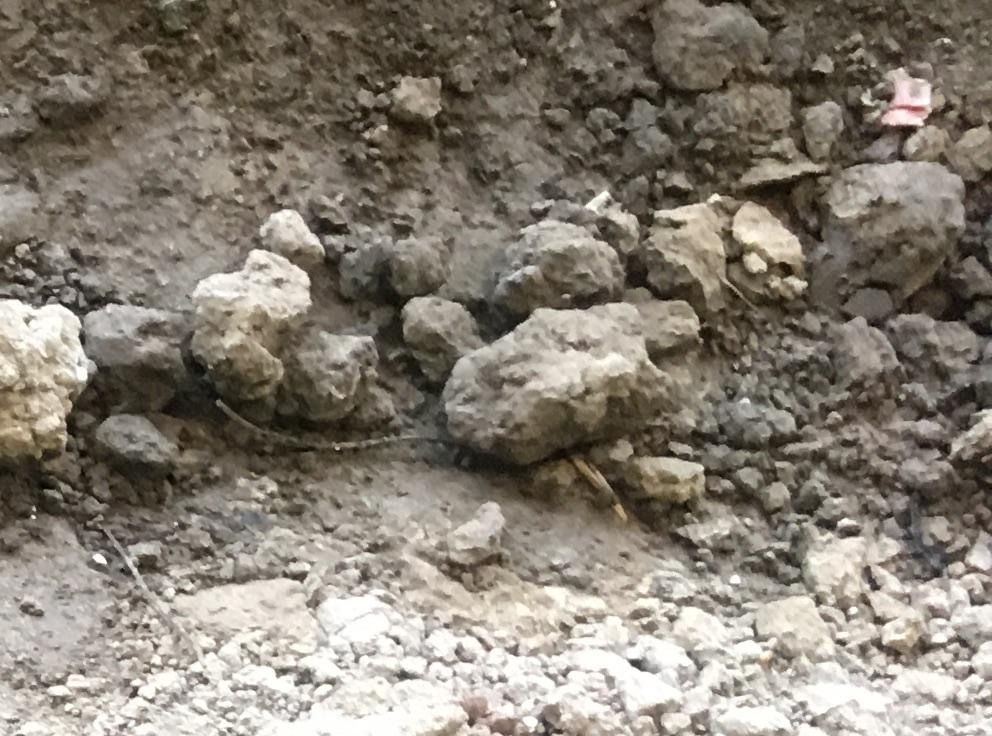block: (424, 304, 655, 457), (820, 160, 962, 316), (187, 247, 308, 403), (1, 297, 93, 462)
